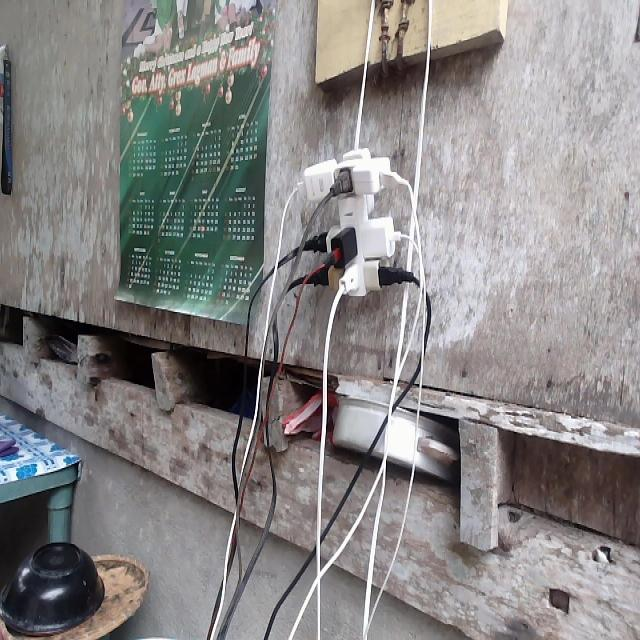-: (293, 146, 417, 298)
